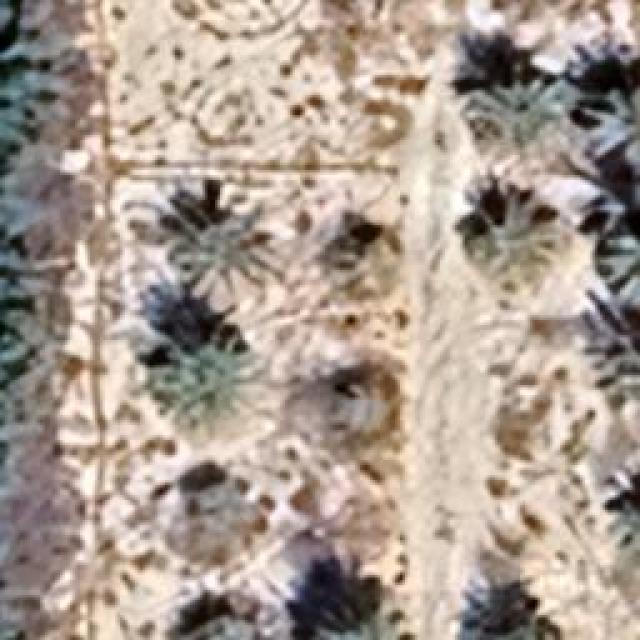PalmTree: (85, 36, 554, 605), (157, 454, 260, 562), (151, 312, 234, 420), (465, 195, 565, 283), (182, 212, 280, 298), (465, 77, 565, 145), (326, 356, 394, 456), (584, 325, 638, 450), (578, 87, 638, 175), (161, 582, 251, 640), (328, 212, 396, 280), (602, 205, 640, 288), (318, 608, 418, 638), (608, 478, 638, 560), (0, 595, 29, 640)
